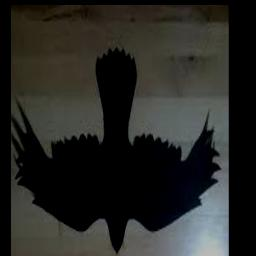Crow: (16, 49, 220, 255)
